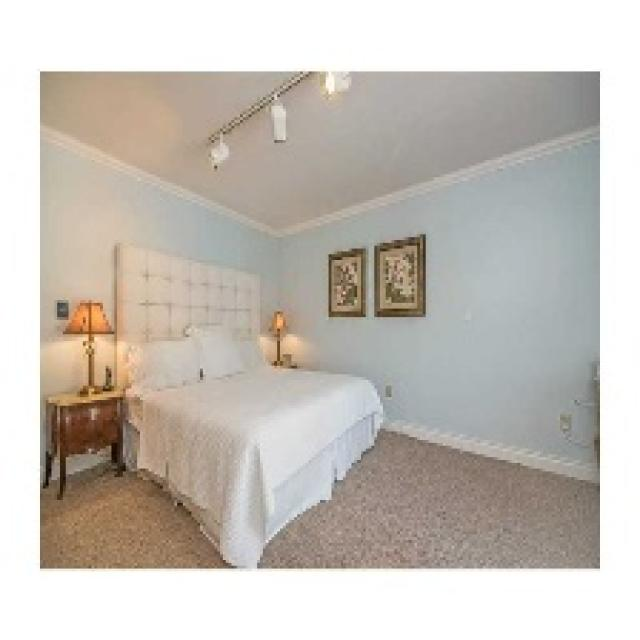Bed: (111, 240, 383, 566)
